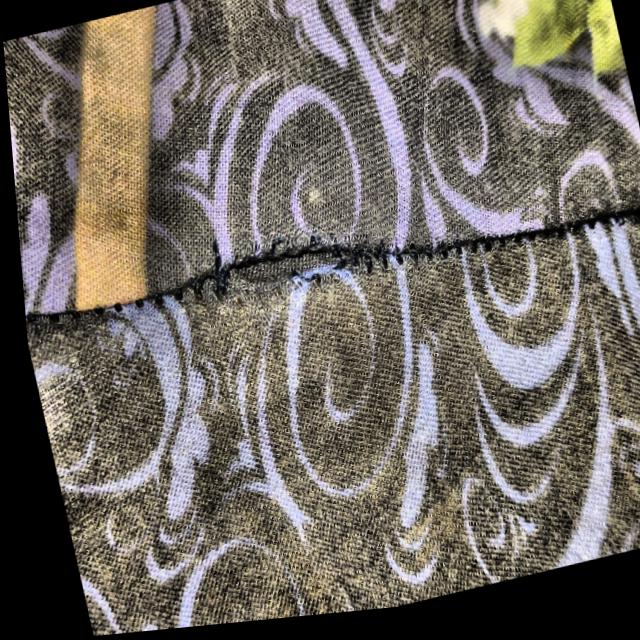seam: (98, 204, 468, 360)
